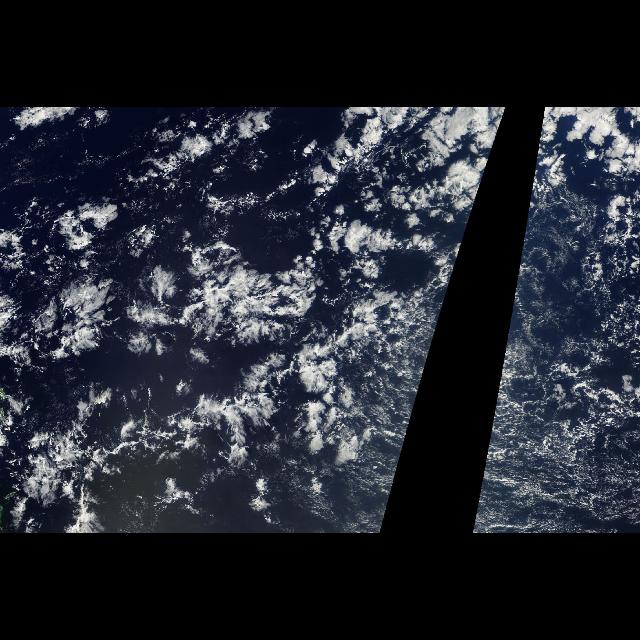Fish: (102, 226, 446, 468)
Flower: (308, 110, 506, 252), (522, 110, 640, 252)
Gravel: (496, 197, 640, 533)
Sugar: (471, 323, 635, 533)
